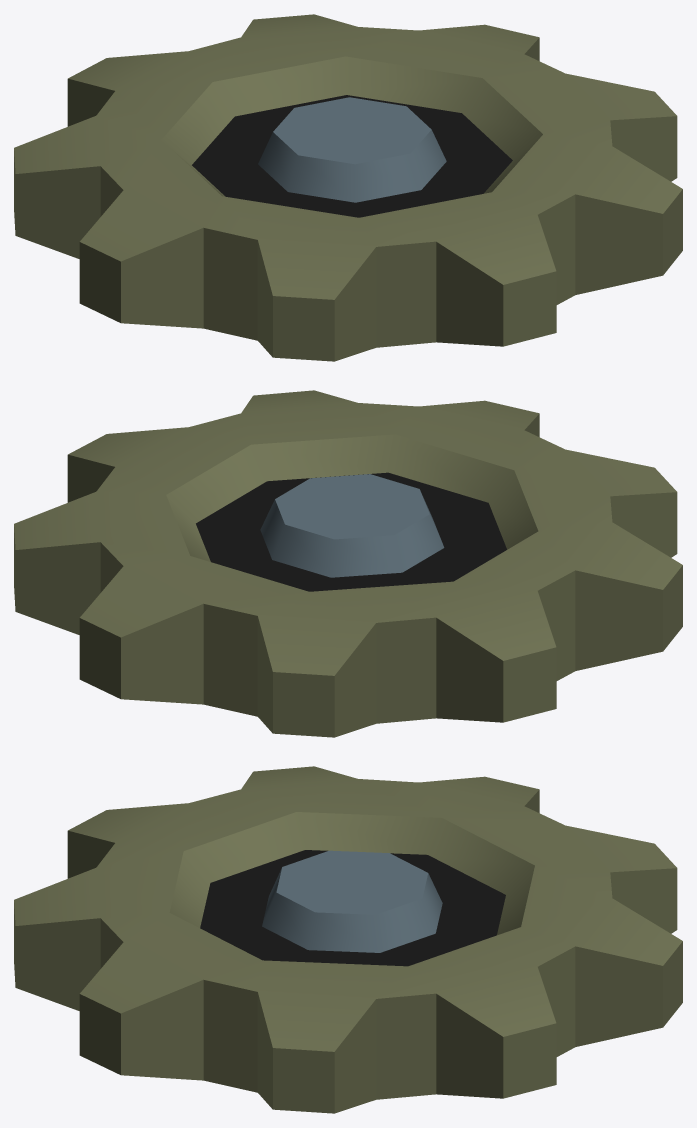
File: gear_1.fbx
3 views of the same model, one above another, from view 1: azimuth 30°, elevation 25°; view 2: azimuth 150°, elevation 25°; view 3: azimuth 270°, elevation 25° (orthographic).
Visible parts, largest first — view 1: Gear1; view 2: Gear1; view 3: Gear1.
Boxes of the visible parts, <box> form: Gear1: <box>14,14,682,361</box>; Gear1: <box>14,390,682,737</box>; Gear1: <box>14,766,682,1113</box>.
Bounding box in the file's own units: 4.4 × 0.7708 × 4.36.
